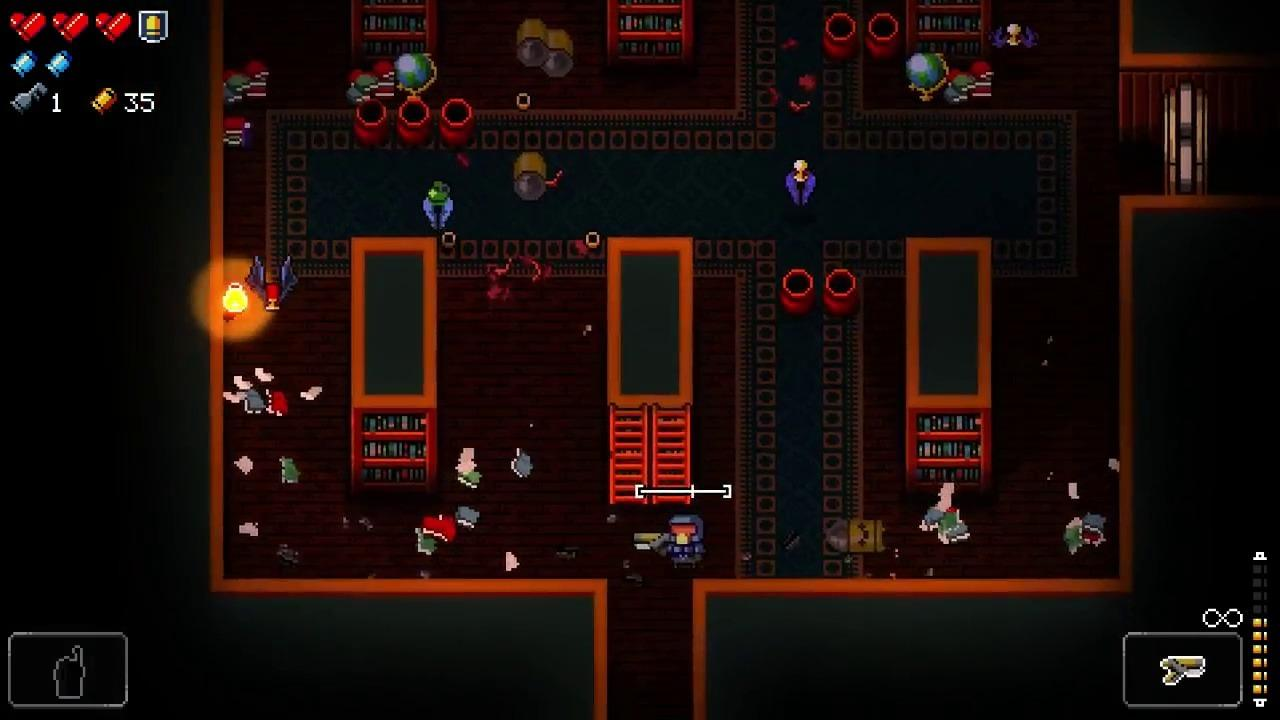bullat: (787, 158, 817, 207)
dead_bullet_kin: (826, 518, 887, 552), (516, 18, 552, 67), (515, 150, 546, 200), (543, 29, 573, 79)
grenat: (424, 182, 455, 231)
locked_door: (1165, 80, 1209, 194)
player: (667, 513, 705, 568)
shotgat: (246, 257, 299, 311)
